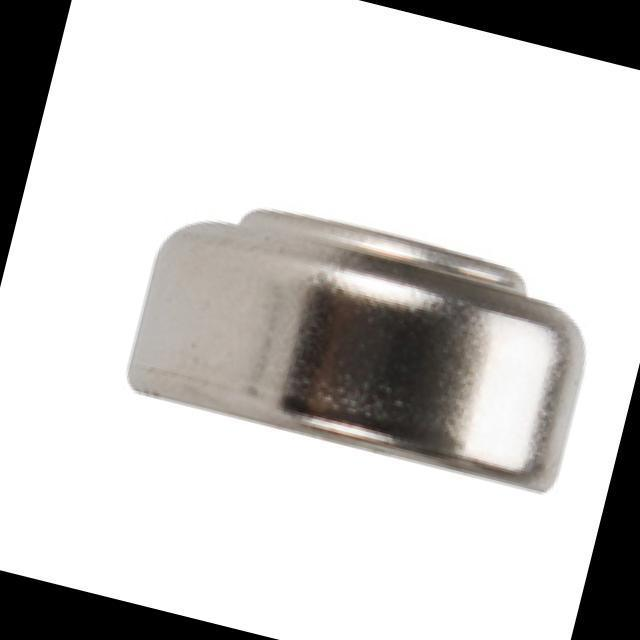COIN: (122, 176, 608, 498)
